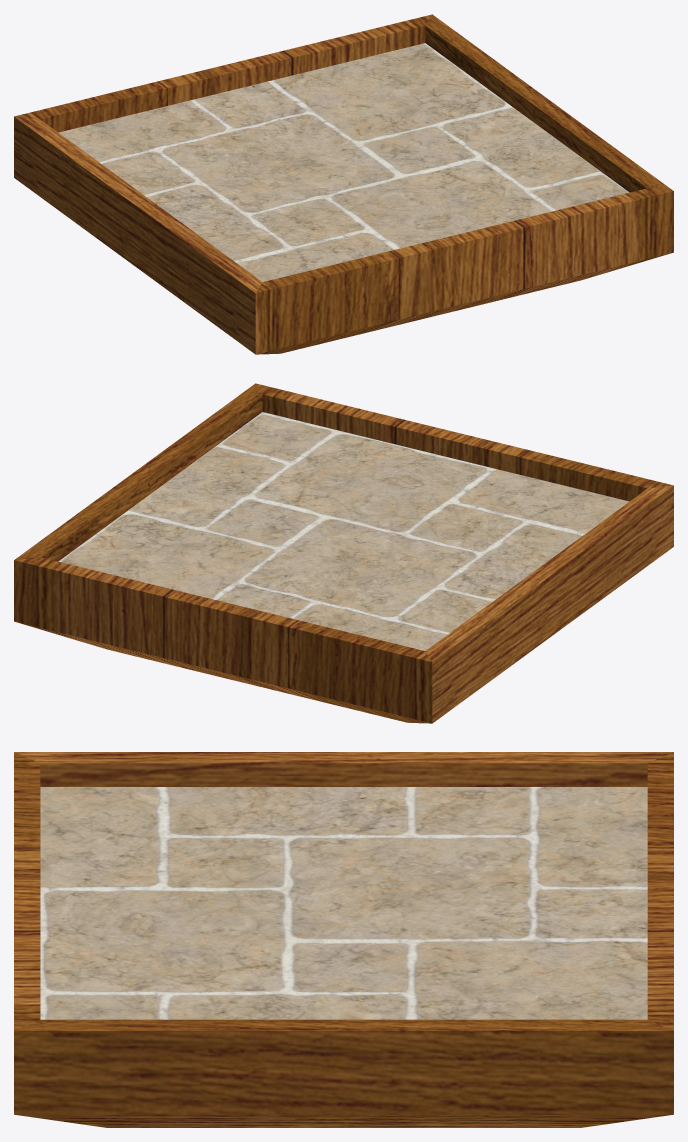
File: Platform_rollercoaster.FBX
The picture shows the model from 3 angles, top to bottom: view 1: azimuth 30°, elevation 25°; view 2: azimuth 150°, elevation 25°; view 3: azimuth 270°, elevation 25°; orthographic projection. The views are drawn at different scales.
Parts seen in each view (by area): view 1: Box001; view 2: Box001; view 3: Box001.
Boxes of the visible parts, x1,y1,x2,y2 form: Box001: [14, 14, 673, 354]; Box001: [14, 383, 673, 723]; Box001: [14, 752, 673, 1127].
Size of the model in its own units: 200 by 45.55 by 200.
Materials: 1 (1 with a texture image).
